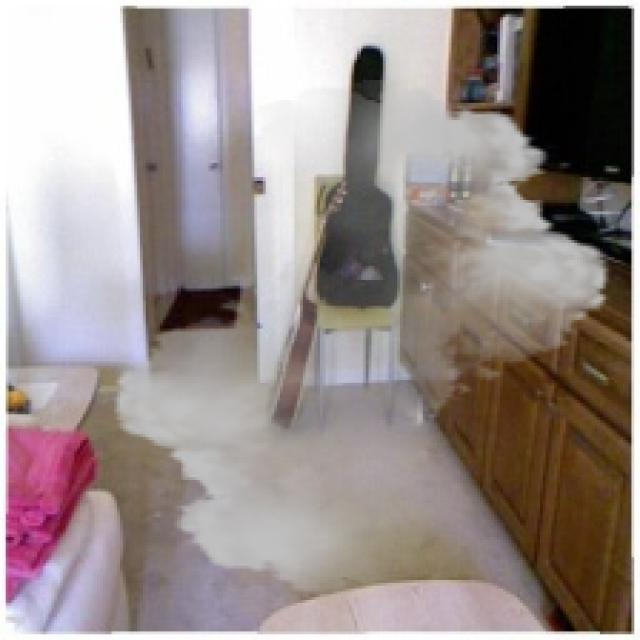Smoke: (97, 80, 626, 600)
